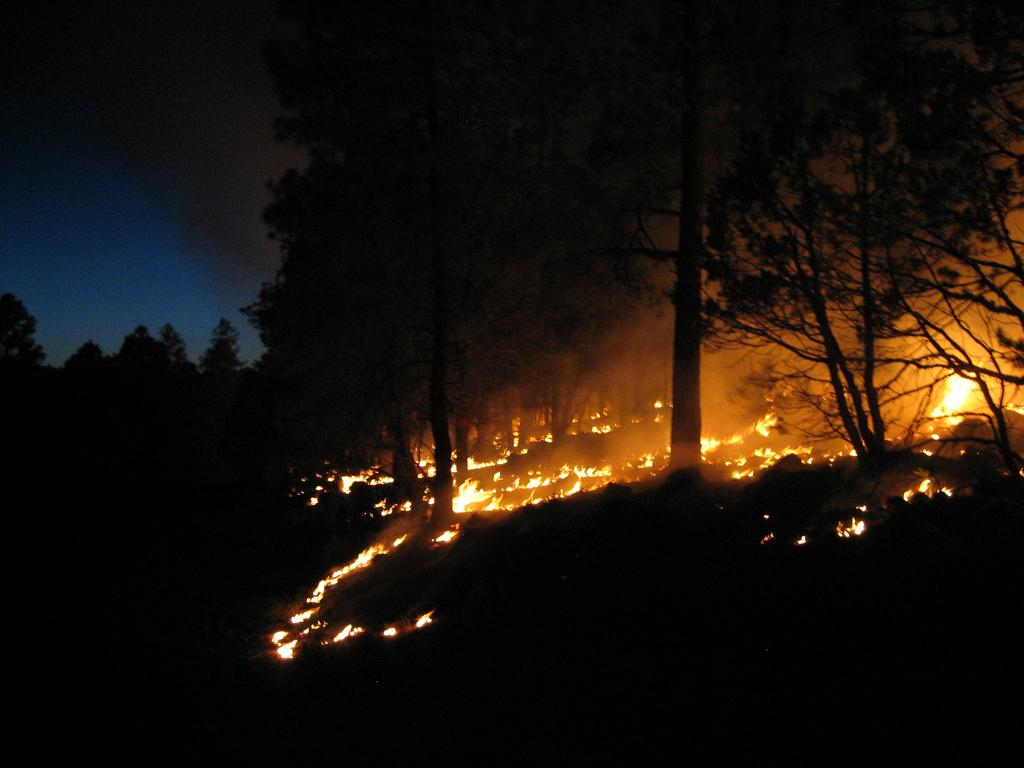fire: (432, 476, 566, 514), (928, 348, 976, 414)
